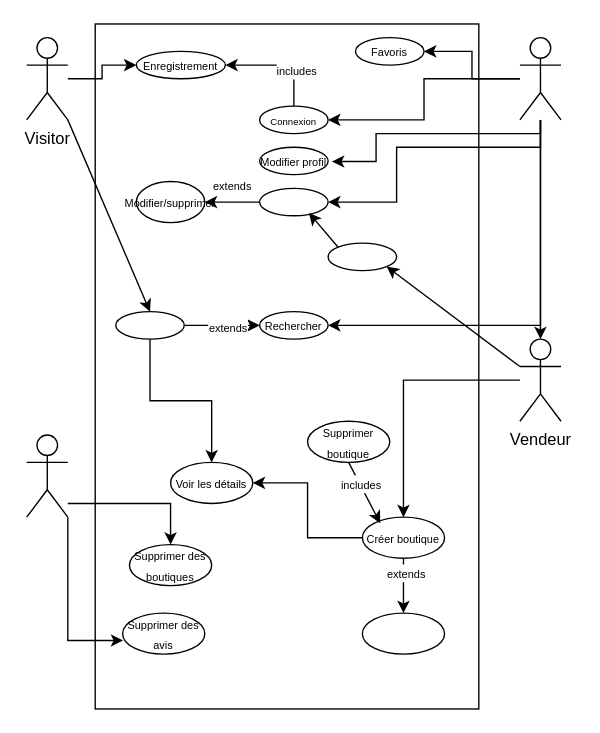
The diagram is 600 pixels wide and 733 high, and some of its shapes have lost their labels. Here are the shapes that lost their labels. From the top down, the box of each, then its label:
(519, 36, 561, 120): Utilisateur
(258, 187, 328, 216): Laisser avis
(327, 242, 397, 271): Répondre
(114, 310, 184, 339): Naviguer
(25, 434, 68, 517): Admin
(361, 612, 445, 654): Ajouter des produits
